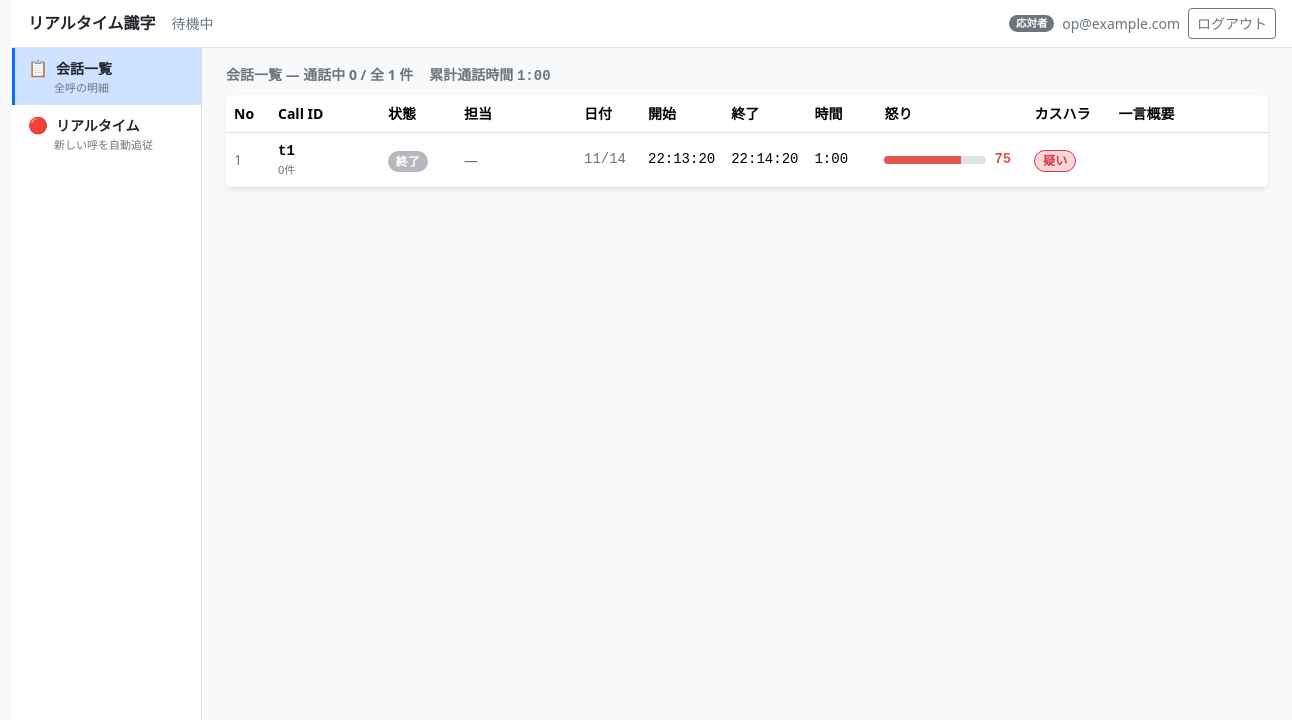
Test case: 応対者ビュー › 通話カードと再文字起こしが出ない(静かな画面)
What coordinates should you click on to do the following:
click the button with test id "call-t1"
I would click on:
 (747, 160)
Its box is [226,132,1268,187].
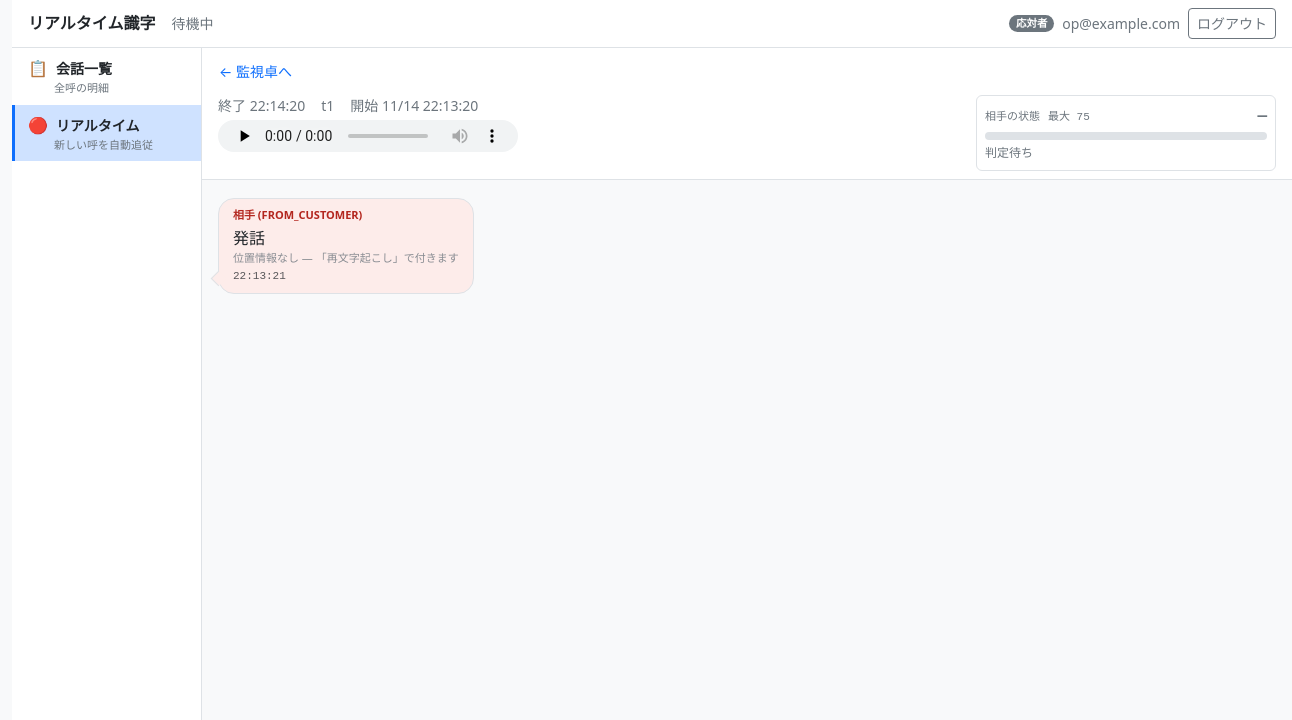
Now the element with test id "situation" is shown, box [976,95,1276,171]
